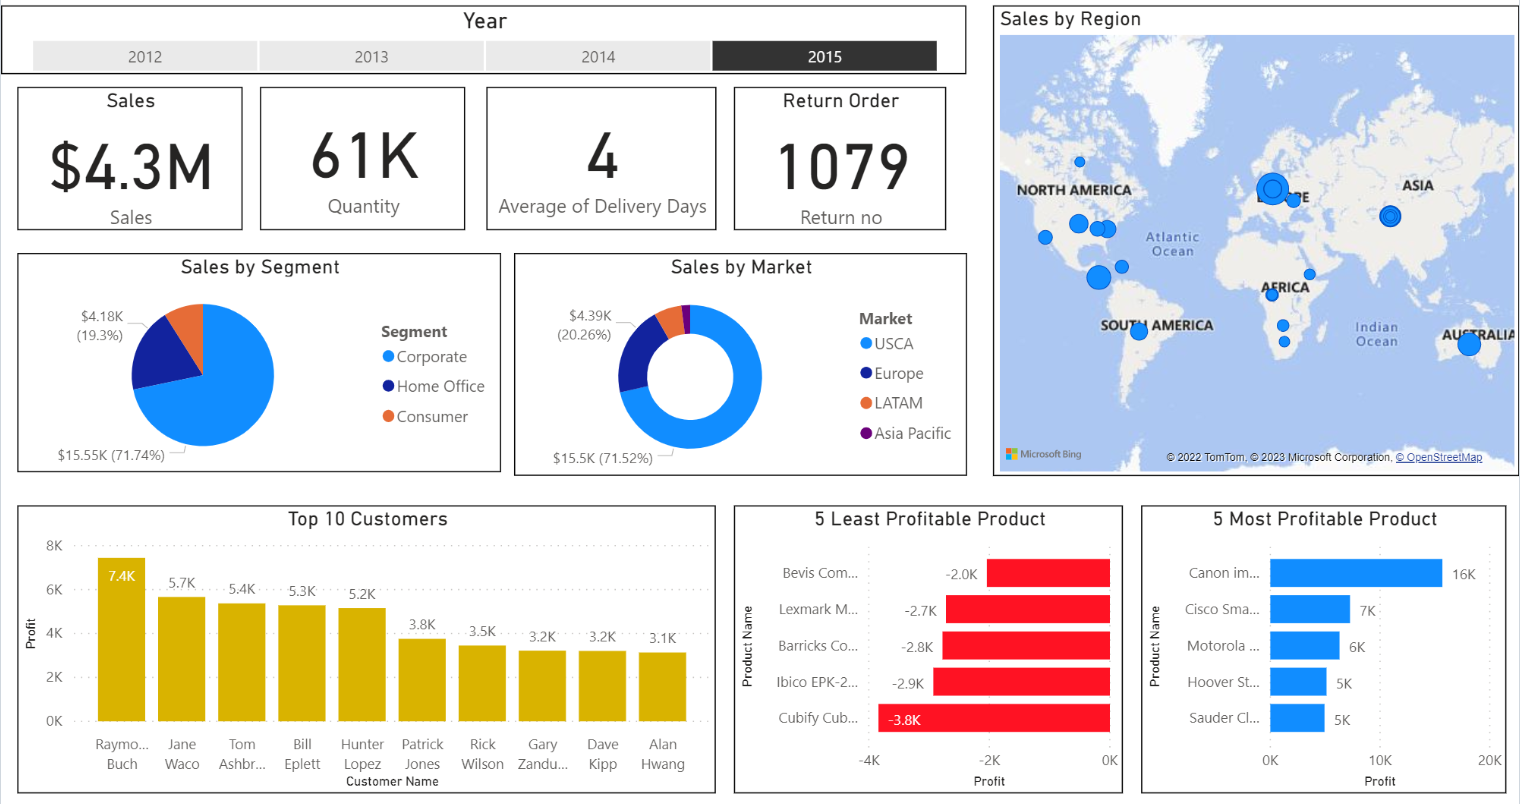

This screenshot's page, from the dashboard's own definition file:
{"tool":"powerbi","page":{"name":"Page 1","canvas":[1280,720],"ordinal":0},"visuals":[{"type":"card","title":"Sales","fields":{"Values":["Orders.Sales"]},"box":[13.7,123.6,189.5,120.9],"z":0},{"type":"card","title":"Return Order","fields":{"Values":["Returns.Return no"]},"box":[618,123.6,178.5,120.9],"z":1},{"type":"card","fields":{"Values":["Orders.Delivery Days"]},"box":[409.3,123.6,193.6,120.9],"z":2},{"type":"card","fields":{"Values":["Orders.Quantity"]},"box":[218.4,123.6,173,120.9],"z":3},{"type":"map","fields":{"Category":["Orders.Region"],"Size":["Orders.Sales"]},"box":[836.4,54.9,443.6,396.9],"z":4},{"type":"barChart","title":"5 Most Profitable Product","fields":{"Category":["Orders.Product Name"],"Y":["Orders.Profit"]},"box":[961.4,476.6,307.6,243.1],"z":5},{"type":"slicer","title":"Year","fields":{"Values":["Orders.Year"]},"box":[0,54.9,814.4,57.7],"z":6},{"type":"barChart","title":"5 Least Profitable Product","fields":{"Category":["Orders.Product Name"],"Y":["Orders.Profit"]},"box":[618,476.6,328.2,243.1],"z":7},{"type":"pieChart","fields":{"Category":["Orders.Segment"],"Y":["Orders.Sales"]},"box":[13.7,263.7,407.9,185.4],"z":8},{"type":"donutChart","fields":{"Category":["Orders.Market"],"Y":["Orders.Sales"]},"box":[432.6,263.7,381.8,188.2],"z":9},{"type":"columnChart","title":"Top 10 Customers","fields":{"Y":["Orders.Profit"],"Category":["Orders.Customer Name"]},"box":[13.7,476.6,589.2,243.1],"z":10}]}

Visuals, with their boxes in screenshot pixels (x1, y1, x2, y2):
"Sales" card: x1=16, y1=91, x2=241, y2=234
"Return Order" card: x1=733, y1=91, x2=944, y2=234
card - Orders.Delivery Days: x1=485, y1=91, x2=715, y2=234
card - Orders.Quantity: x1=259, y1=91, x2=464, y2=234
map - Orders.Region x Orders.Sales: x1=991, y1=10, x2=1517, y2=480
"5 Most Profitable Product" barChart: x1=1140, y1=509, x2=1504, y2=798
"Year" slicer: x1=0, y1=10, x2=965, y2=78
"5 Least Profitable Product" barChart: x1=733, y1=509, x2=1122, y2=798
pieChart - Orders.Segment x Orders.Sales: x1=16, y1=257, x2=500, y2=477
donutChart - Orders.Market x Orders.Sales: x1=513, y1=257, x2=965, y2=480
"Top 10 Customers" columnChart: x1=16, y1=509, x2=715, y2=798
